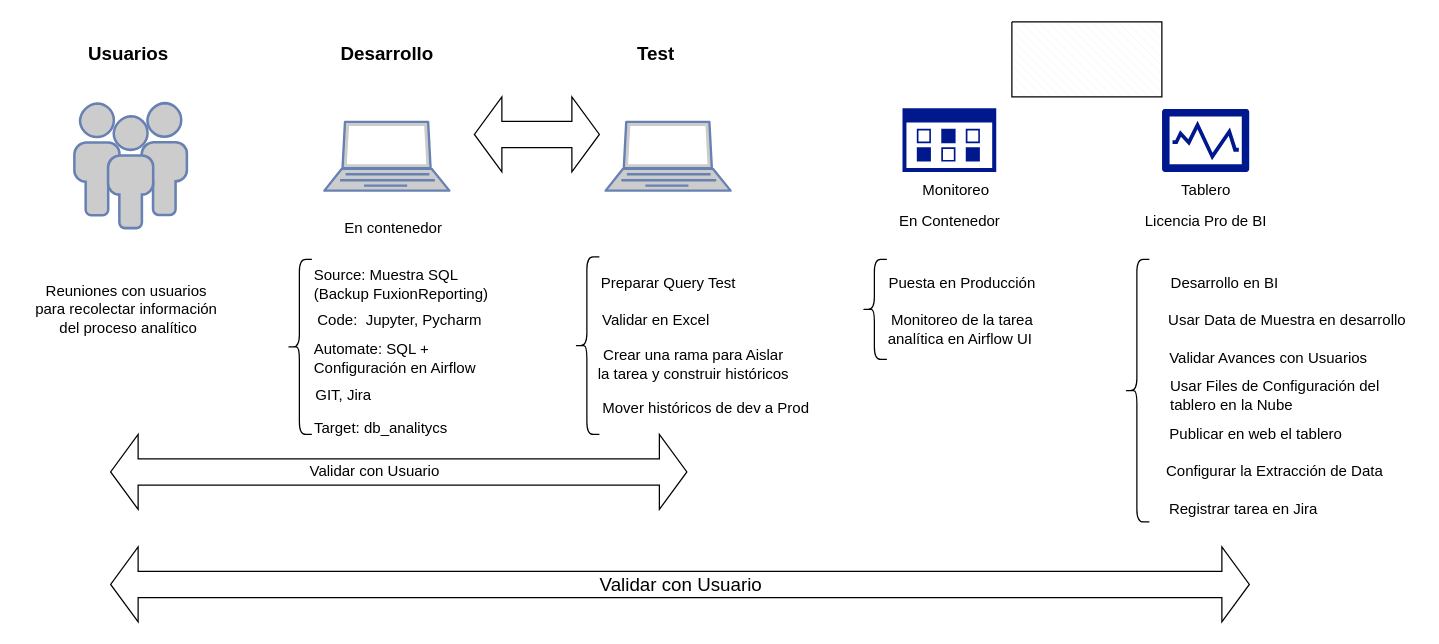
Image size: 1439x644. Some labels were removed from this diagram. The shapes that lost their labels are listed below. From the top down, each one's box as (x1, y1, x2, y2) in pixels, then its label:
(1011, 21, 1162, 97): Producción
(473, 96, 599, 172): Optimizar Código
